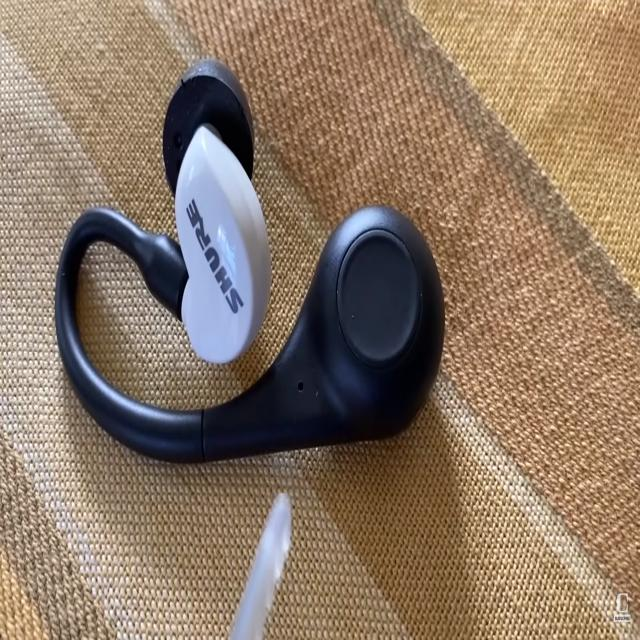airpods: (54, 55, 445, 466)
